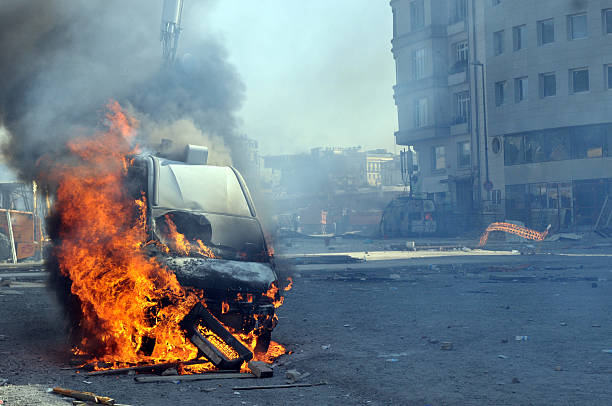terrorist: (220, 5, 566, 313)
